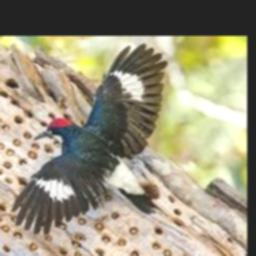Woodpecker: (11, 44, 167, 235)
